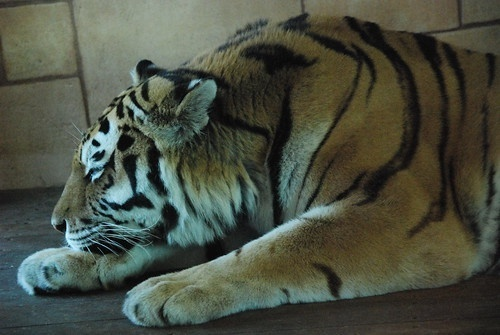tigre: (16, 9, 500, 330)
